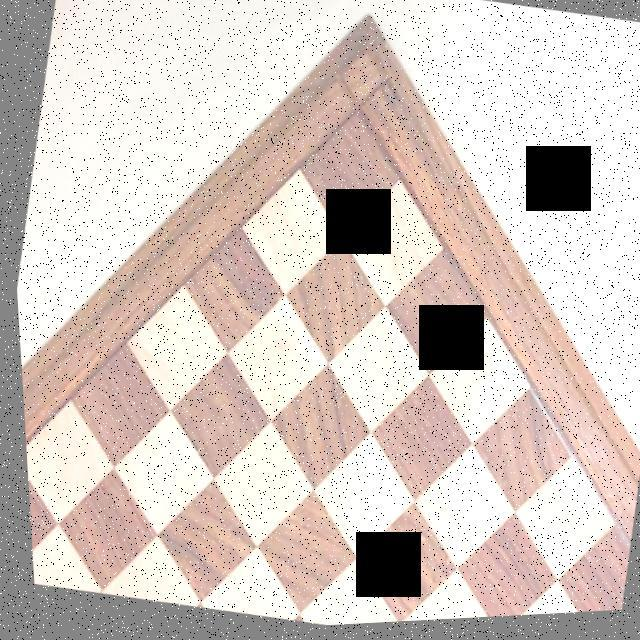chess-table-corners: (305, 88, 408, 166)
